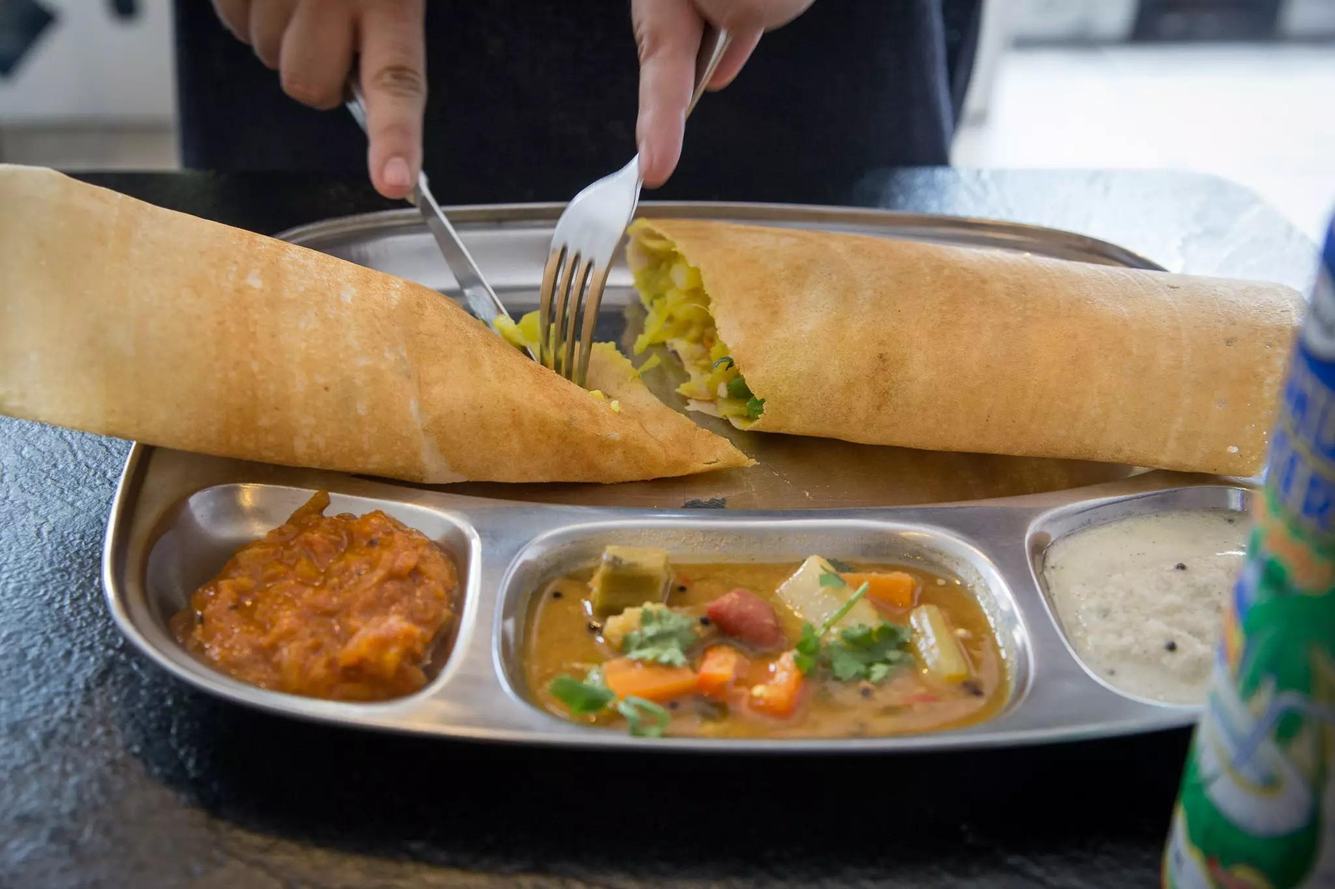CoconutChutney: (1047, 510, 1252, 701)
Dosa: (0, 164, 761, 486), (629, 218, 1307, 475)
